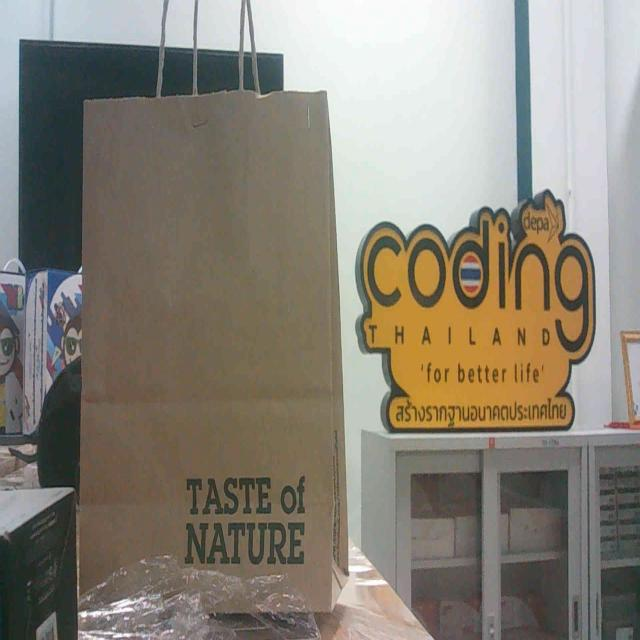bag: (45, 66, 347, 623)
